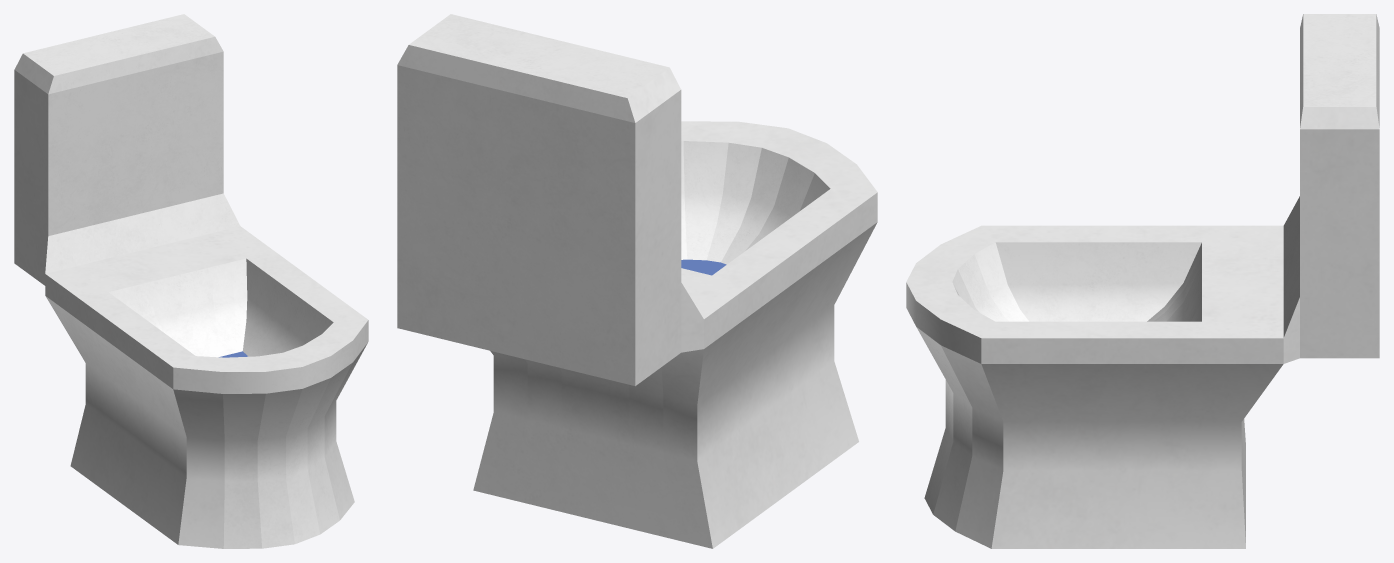
The model's file is ToiletBowl.fbx.
3 views of the same model, side by side, from view 1: azimuth 30°, elevation 25°; view 2: azimuth 150°, elevation 25°; view 3: azimuth 270°, elevation 25° (orthographic). The views are drawn at different scales.
Parts seen in each view (by area): view 1: pCube39; view 2: pCube39; view 3: pCube39.
Boxes of the visible parts, left/top/right/bottom form: pCube39: left=14, top=14, right=368, bottom=548; pCube39: left=397, top=14, right=877, bottom=548; pCube39: left=906, top=14, right=1379, bottom=548.
Bounding box in the file's own units: 0.6937 × 1.26 × 1.23.
